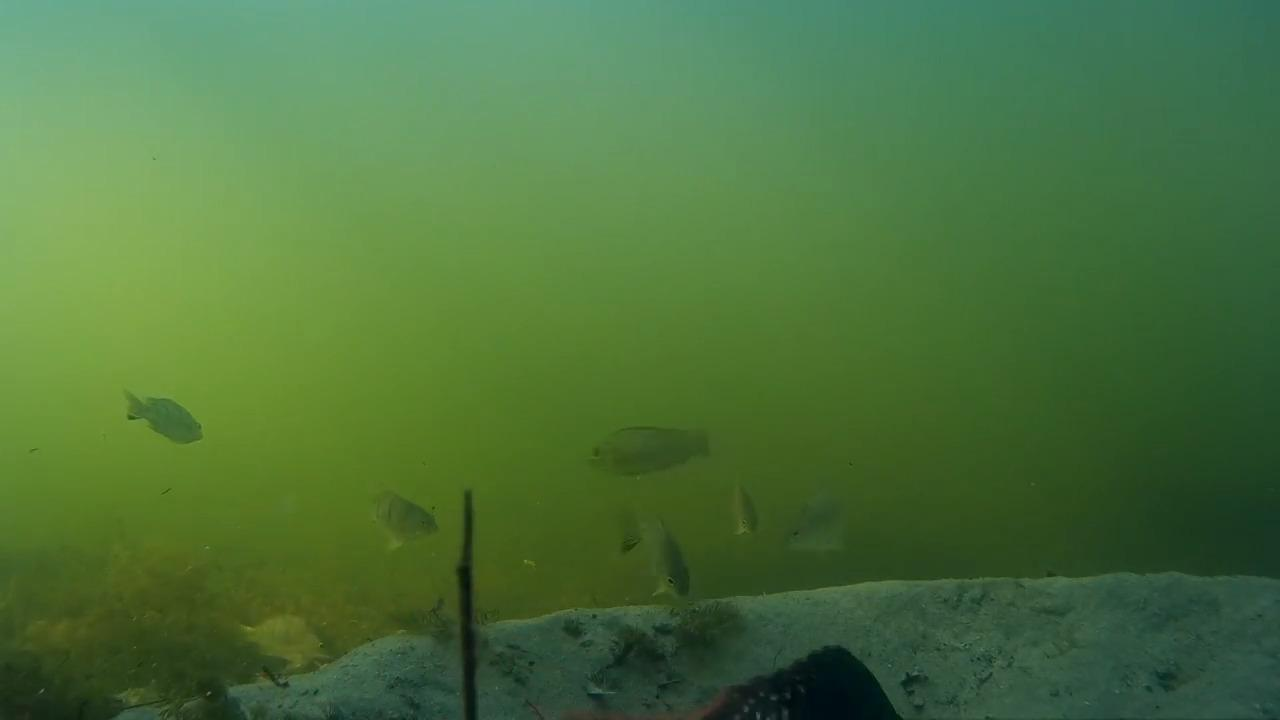Tilapia: (578, 426, 717, 478), (230, 608, 337, 674), (105, 392, 211, 450), (368, 490, 447, 550), (782, 502, 851, 564), (642, 528, 693, 598), (728, 490, 763, 544)
